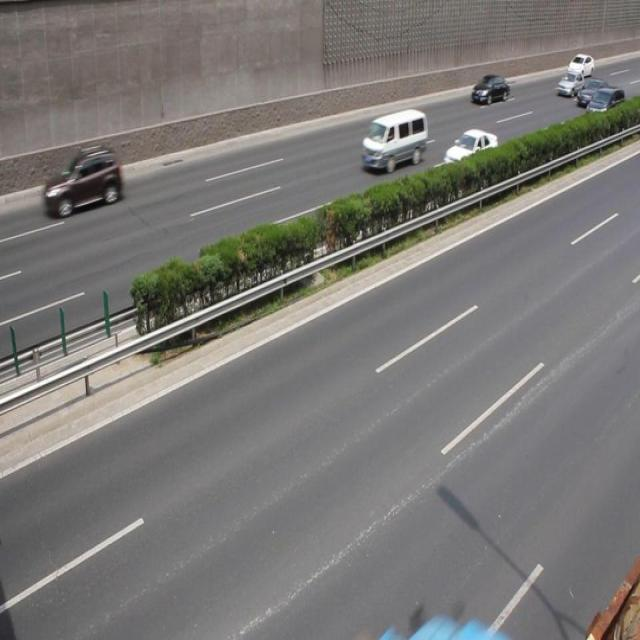car: (46, 144, 122, 219), (441, 126, 498, 176), (584, 87, 624, 124), (470, 74, 510, 104), (576, 76, 611, 110), (566, 52, 593, 78), (556, 71, 582, 96)
truck: (361, 109, 426, 172)
